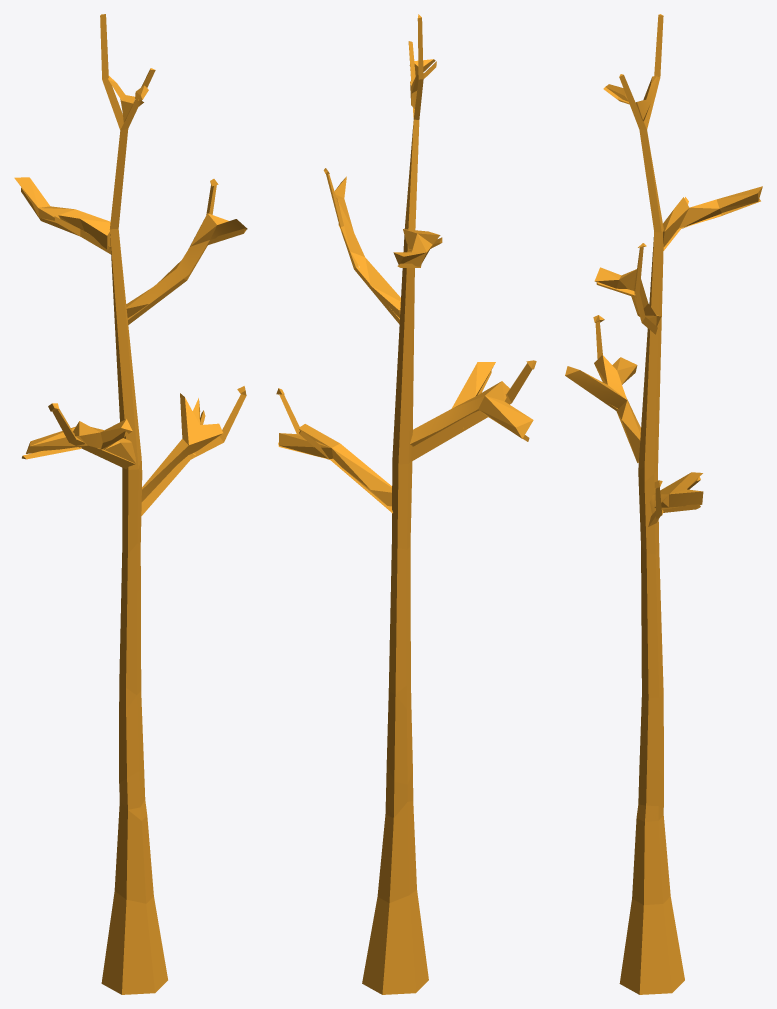
The model's file is SM_Tree_Birch_Sapling_A_Bare_Snow.fbx.
3 renders of one model, left to right at view 1: azimuth 30°, elevation 25°; view 2: azimuth 150°, elevation 25°; view 3: azimuth 270°, elevation 25°, orthographic. The views are drawn at different scales.
Visible parts, largest first — view 1: tree-birch-sapling-a-bare-snow; view 2: tree-birch-sapling-a-bare-snow; view 3: tree-birch-sapling-a-bare-snow.
Part boxes in pixels (x1,y1,x2,y2): tree-birch-sapling-a-bare-snow: (14, 14, 247, 994); tree-birch-sapling-a-bare-snow: (276, 14, 536, 994); tree-birch-sapling-a-bare-snow: (565, 14, 762, 994).
Size of the model in its own units: 0.4792 by 1.87 by 0.3521.
